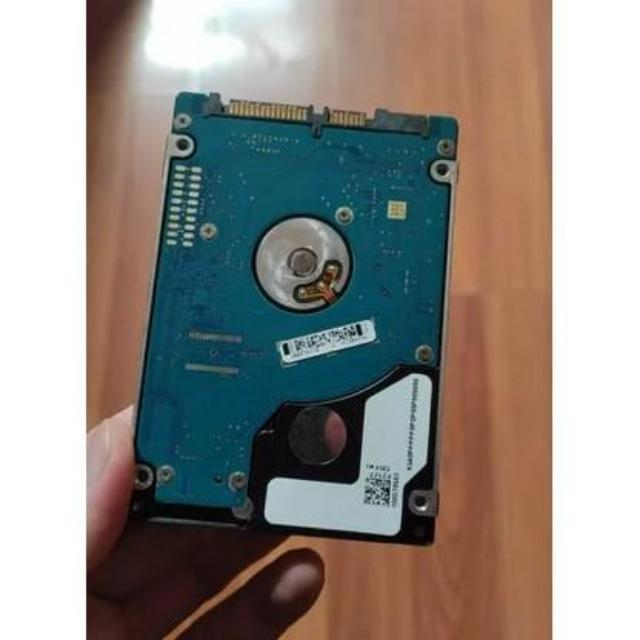DISK: (128, 86, 462, 549)
